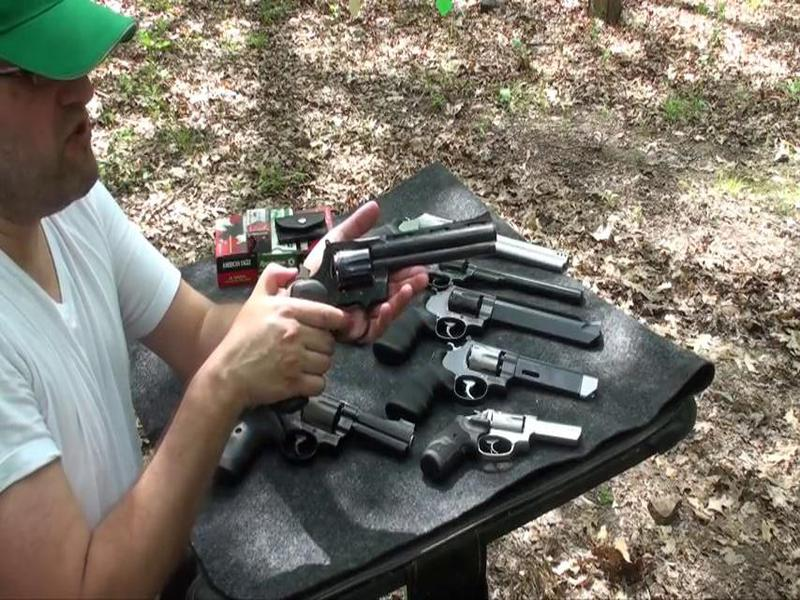Revolver: (277, 212, 505, 329)
